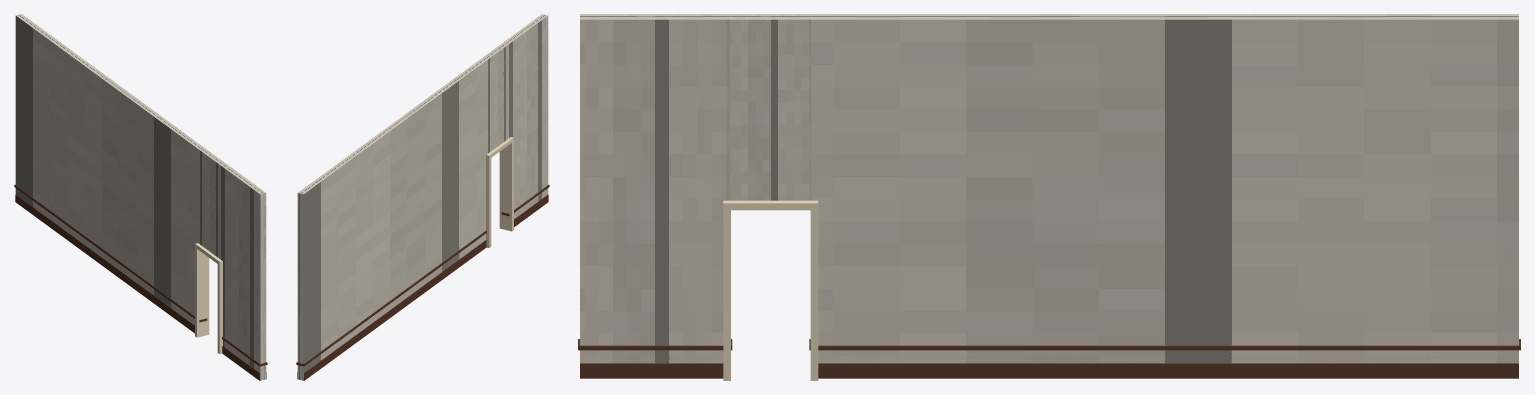
Rendered from fire_mid.glb.
The picture shows the model from 3 angles, left to right: view 1: azimuth 30°, elevation 25°; view 2: azimuth 150°, elevation 25°; view 3: azimuth 270°, elevation 25°; orthographic projection. The views are drawn at different scales.
Parts seen in each view (by area): view 1: Box1, Box3, Box5, Box2, Box6, Box9, Box10, Box7, Box4; view 2: Box1, Box3, Box5, Box2, Box7, Box10, Box9, Box6, Box4; view 3: Box1, Box3, Box5, Box2, Box9, Box10, Box4, Box6, Box7, Box11, Box12, Box8.
Part boxes in pixels (bbox=[...]): Box1: bbox=[15, 14, 205, 324]; Box3: bbox=[221, 164, 266, 380]; Box5: bbox=[200, 149, 226, 259]; Box2: bbox=[15, 194, 194, 333]; Box6: bbox=[195, 243, 209, 337]; Box9: bbox=[16, 189, 194, 324]; Box10: bbox=[14, 184, 207, 322]; Box7: bbox=[217, 259, 222, 354]; Box4: bbox=[222, 346, 266, 380]; Box1: bbox=[297, 58, 487, 380]; Box3: bbox=[503, 14, 548, 218]; Box5: bbox=[482, 42, 508, 153]; Box2: bbox=[297, 240, 486, 380]; Box7: bbox=[499, 137, 513, 231]; Box10: bbox=[296, 230, 486, 366]; Box9: bbox=[297, 236, 485, 380]; Box6: bbox=[486, 153, 491, 247]; Box4: bbox=[514, 194, 548, 226]; Box1: bbox=[811, 14, 1518, 363]; Box3: bbox=[580, 14, 730, 363]; Box5: bbox=[730, 14, 811, 200]; Box2: bbox=[818, 363, 1518, 378]; Box9: bbox=[818, 350, 1518, 363]; Box10: bbox=[809, 339, 1520, 350]; Box4: bbox=[580, 363, 723, 378]; Box6: bbox=[810, 200, 818, 380]; Box7: bbox=[723, 200, 730, 380]; Box11: bbox=[580, 350, 722, 363]; Box12: bbox=[578, 339, 732, 350]; Box8: bbox=[731, 200, 810, 210].
Bounding box in the file's own units: 0.3 × 4.4 × 10.49.
Materials: 3 (1 with a texture image).
